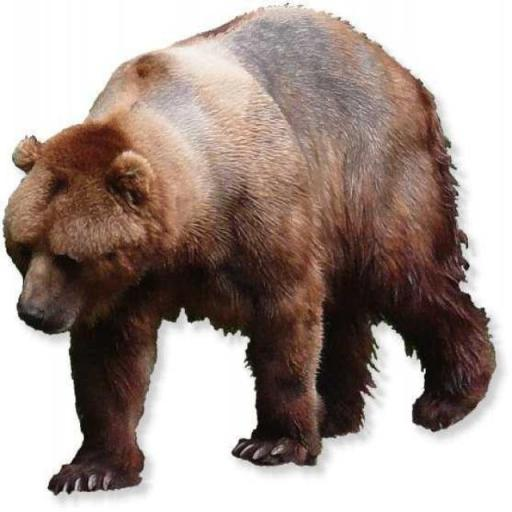Bear: (2, 2, 496, 494)
